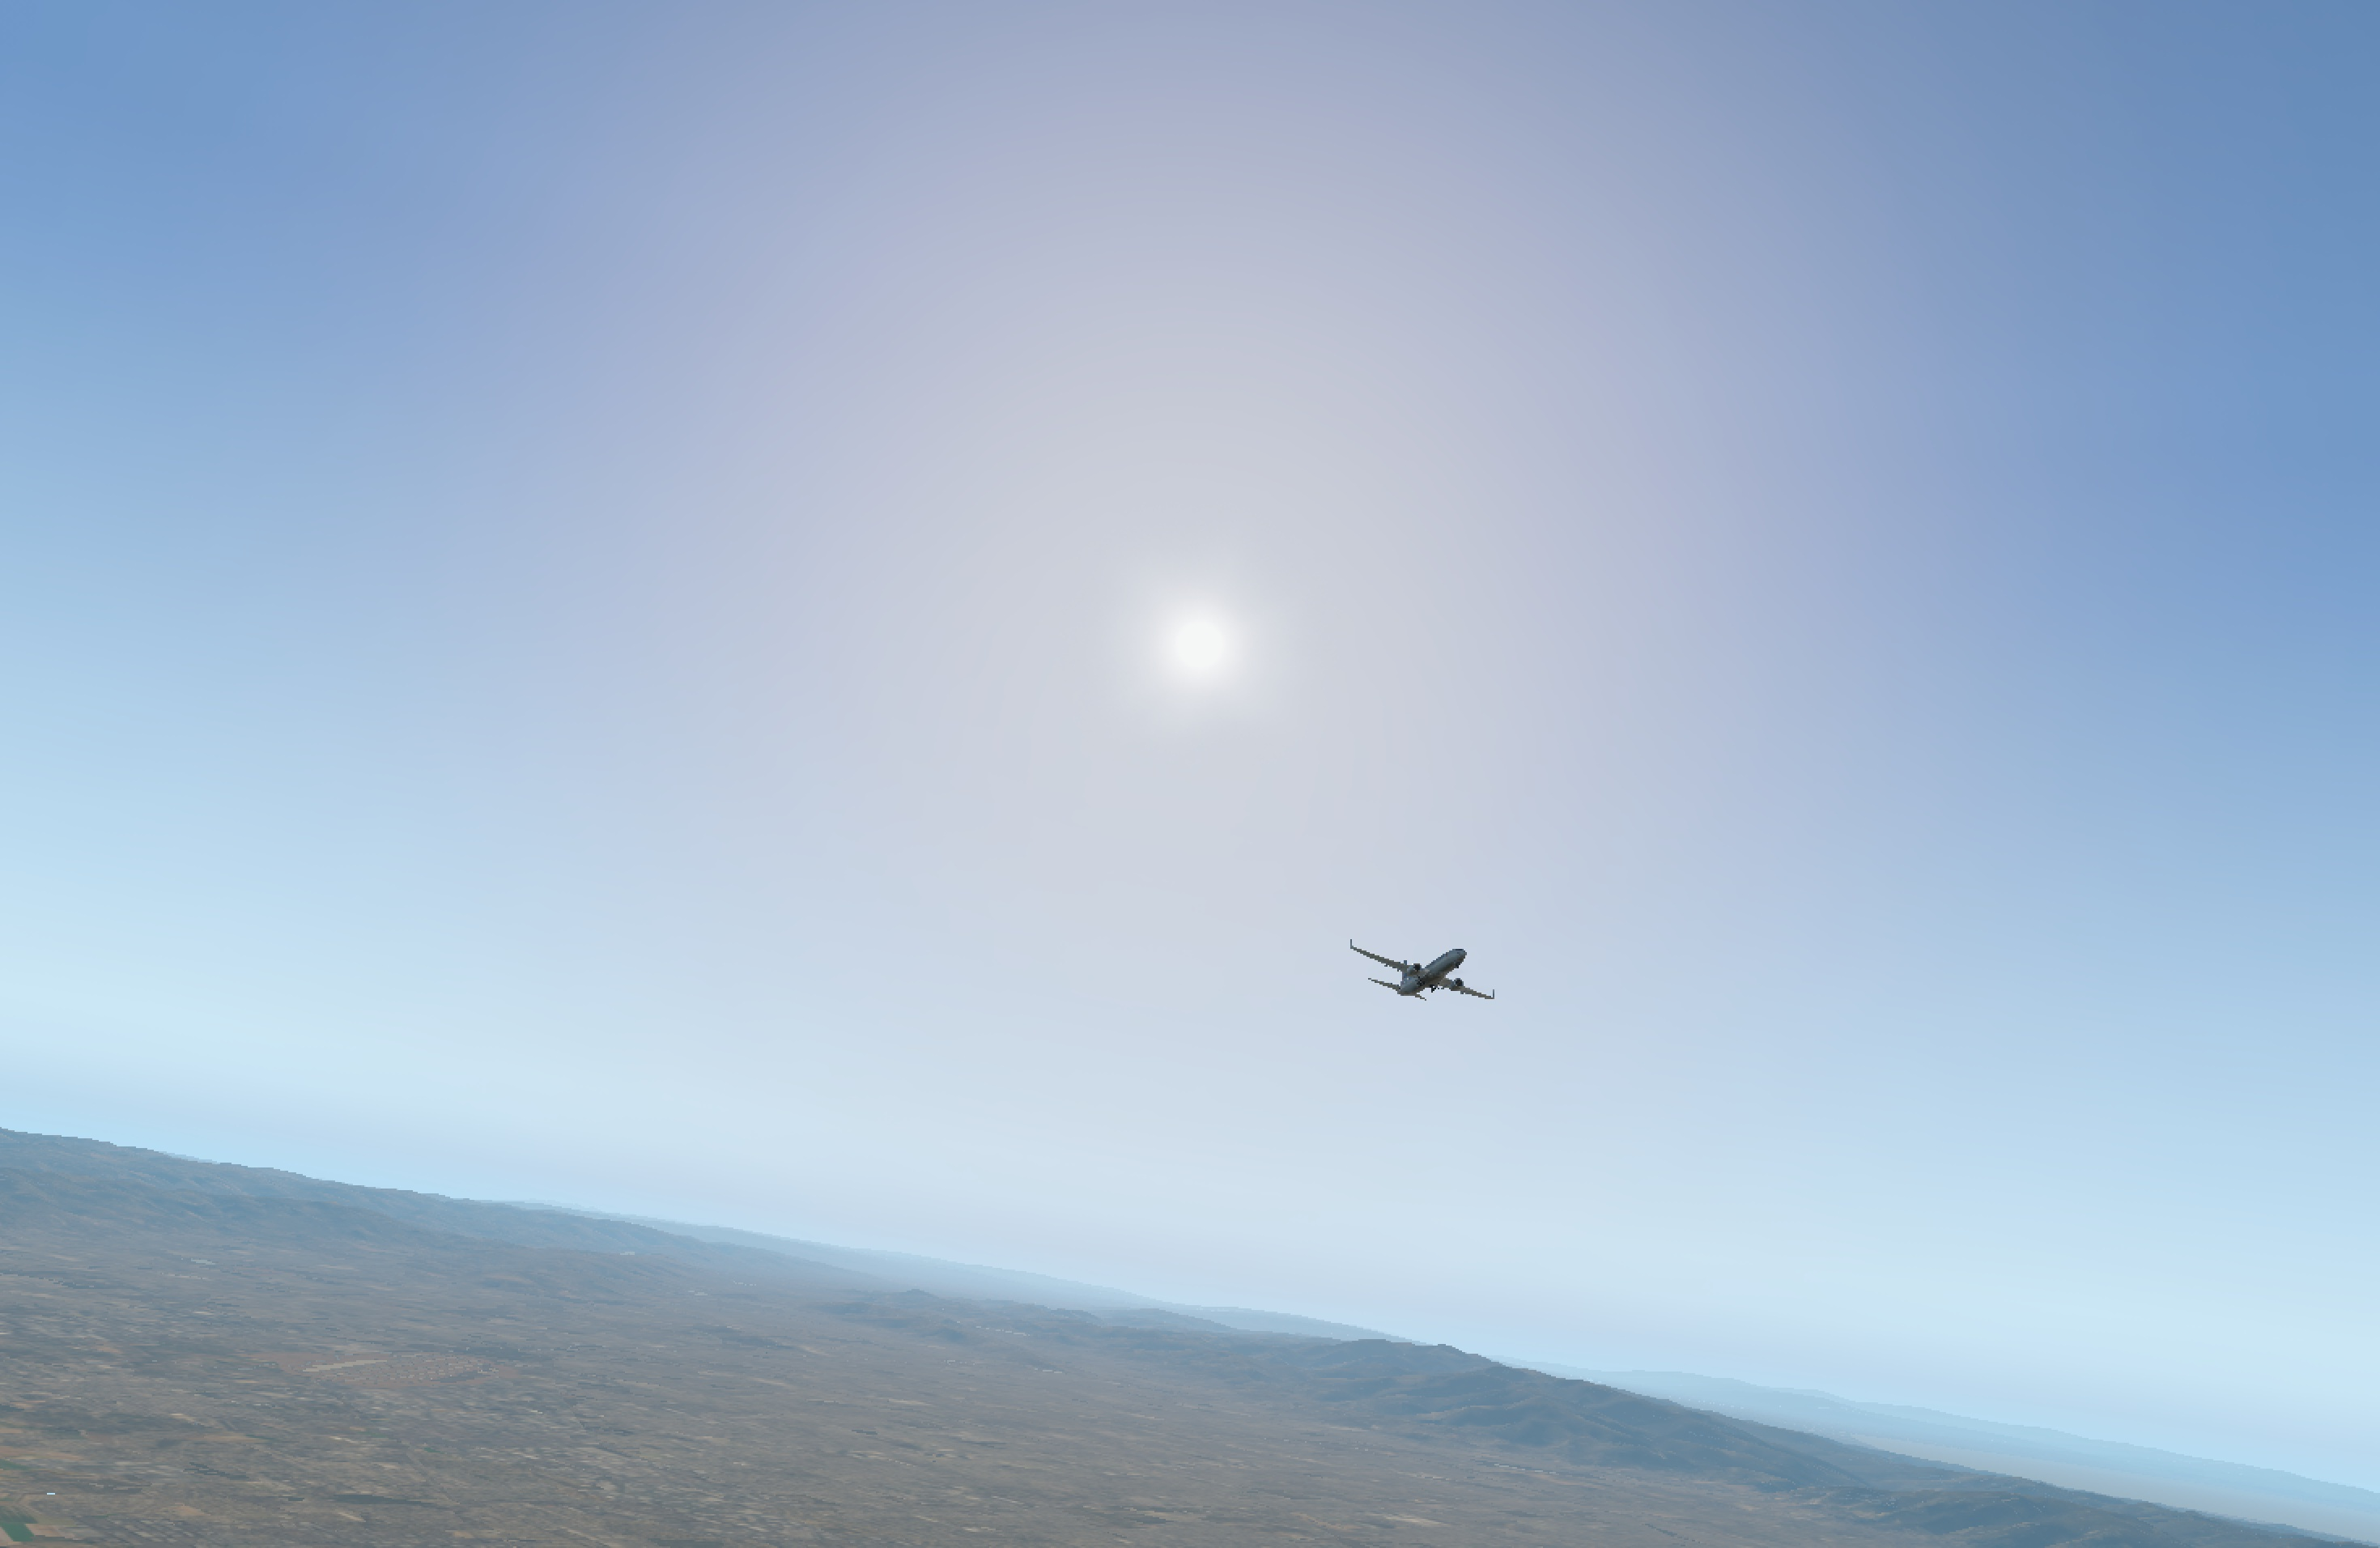aircraft: (1341, 942, 1521, 1010)
